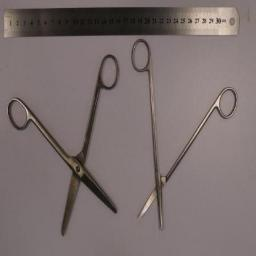Dressing Scissors: (6, 54, 120, 238)
